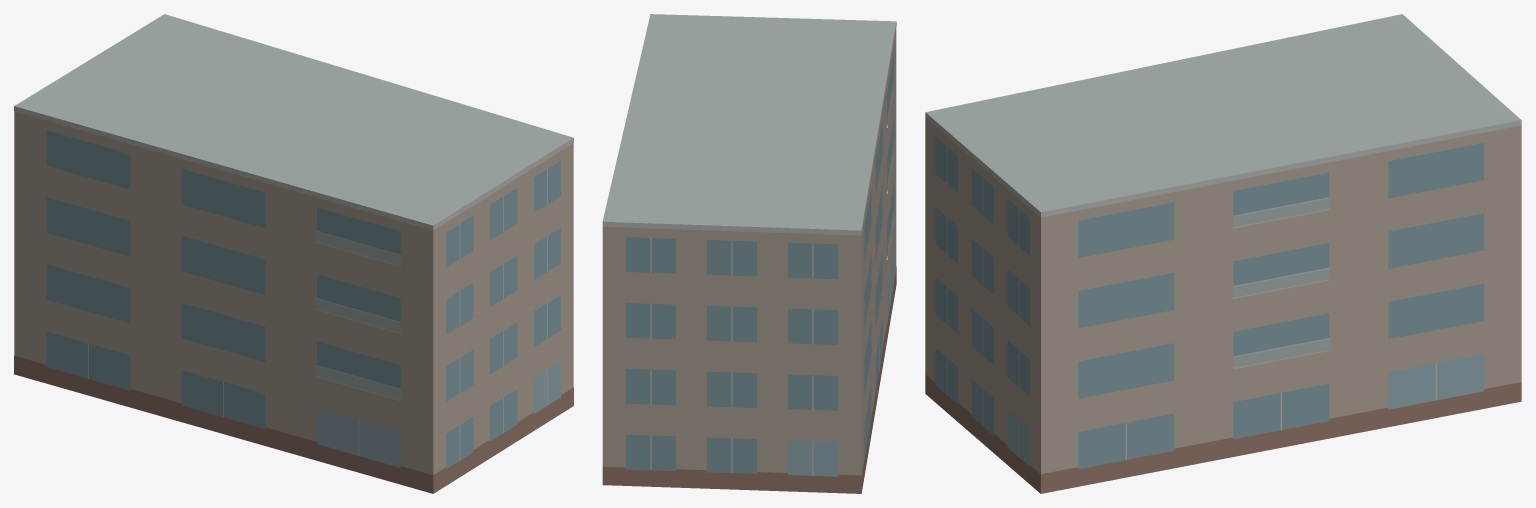
Rendered from survey-upis-32907783.glb.
The picture shows the model from 3 angles, left to right: view 1: azimuth 30°, elevation 25°; view 2: azimuth 150°, elevation 25°; view 3: azimuth 270°, elevation 25°; orthographic projection. The views are drawn at different scales.
Parts seen in each view (by area): view 1: survey-upis-32907783.tmp; view 2: survey-upis-32907783.tmp; view 3: survey-upis-32907783.tmp.
Boxes of the visible parts, bbox=[...] form: survey-upis-32907783.tmp: bbox=[14, 14, 573, 493]; survey-upis-32907783.tmp: bbox=[602, 14, 896, 493]; survey-upis-32907783.tmp: bbox=[925, 14, 1521, 493].
Bounding box in the file's own units: 19.2 × 12.7 × 24.38.
